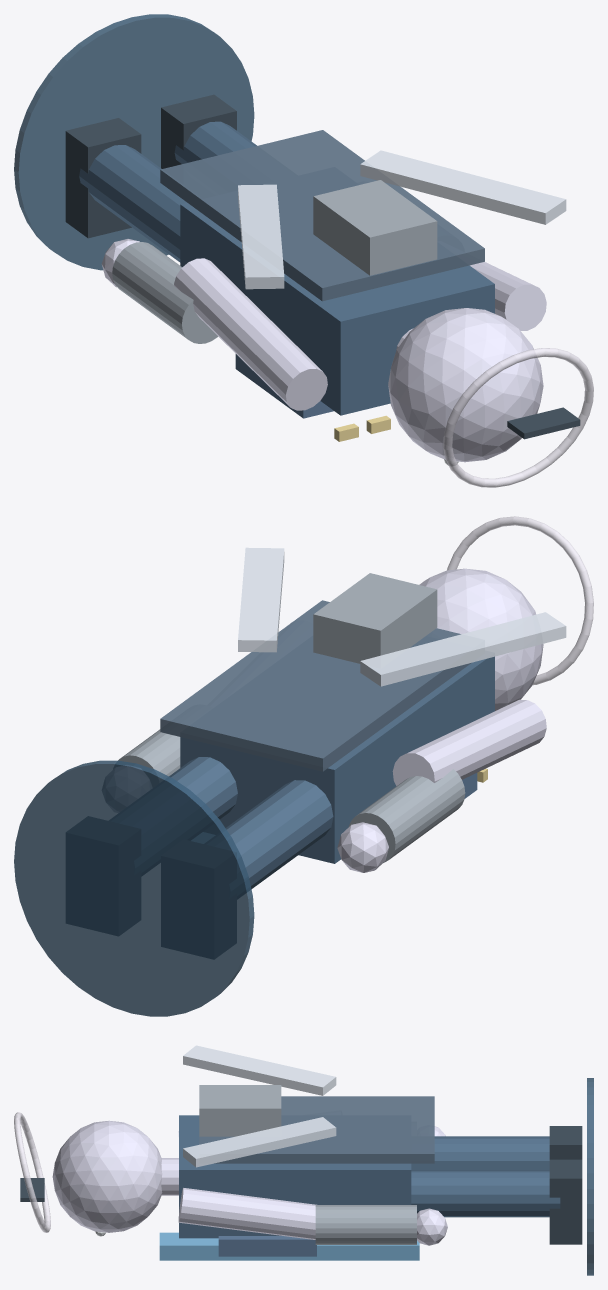
File: SW_NPC_010_joric_firemast.glb
3 renders of one model, top to bottom at view 1: azimuth 30°, elevation 25°; view 2: azimuth 150°, elevation 25°; view 3: azimuth 270°, elevation 25°, orthographic. The views are drawn at different scales.
Visible parts, largest first — view 1: round_base_plate, torso_uniform, storm_cloak, head, left_upper_arm, wingpack_core, left_leg, right_wing_rig, left_forearm_gauntlet, left_boot, left_wing_rig, lunar_crescent_ring (+5 smaller); view 2: round_base_plate, storm_cloak, torso_uniform, wingpack_core, head, left_upper_arm, left_leg, left_wing_rig, left_forearm_gauntlet, right_wing_rig, lunar_crescent_ring, right_leg (+2 smaller); view 3: torso_uniform, storm_cloak, head, right_leg, right_upper_arm, left_leg, right_forearm_gauntlet, wingpack_core, rank_sash, right_wing_rig, left_wing_rig, right_boot (+7 smaller).
Boxes of the visible parts, <box> form: round_base_plate: <box>14,14,254,270</box>; torso_uniform: <box>180,203,494,415</box>; storm_cloak: <box>160,130,484,301</box>; head: <box>388,308,543,462</box>; left_upper_arm: <box>174,258,327,410</box>; wingpack_core: <box>313,180,437,275</box>; left_leg: <box>79,145,186,262</box>; right_wing_rig: <box>360,150,566,224</box>; left_forearm_gauntlet: <box>112,242,217,343</box>; left_boot: <box>65,118,141,238</box>; left_wing_rig: <box>238,184,284,289</box>; lunar_crescent_ring: <box>443,348,593,487</box>; round_base_plate: <box>14,760,254,1016</box>; storm_cloak: <box>160,600,471,771</box>; torso_uniform: <box>180,656,494,863</box>; wingpack_core: <box>313,573,437,663</box>; head: <box>419,568,543,710</box>; left_upper_arm: <box>392,699,546,785</box>; left_leg: <box>225,780,333,889</box>; left_wing_rig: <box>360,612,566,686</box>; left_forearm_gauntlet: <box>348,769,465,862</box>; right_wing_rig: <box>238,547,284,652</box>; lunar_crescent_ring: <box>447,516,593,685</box>; right_leg: <box>169,757,237,819</box>; torso_uniform: <box>179,1115,411,1238</box>; storm_cloak: <box>199,1096,434,1163</box>; head: <box>52,1120,162,1232</box>; right_leg: <box>411,1170,560,1217</box>; right_upper_arm: <box>178,1188,316,1239</box>; left_leg: <box>411,1136,549,1170</box>; right_forearm_gauntlet: <box>315,1205,416,1244</box>; wingpack_core: <box>199,1085,281,1136</box>; rank_sash: <box>159,1232,419,1260</box>; right_wing_rig: <box>183,1117,336,1167</box>; left_wing_rig: <box>183,1045,336,1095</box>; right_boot: <box>549,1159,582,1244</box>.
Bounding box in the file's own units: 1.05 × 0.7728 × 2.27.
